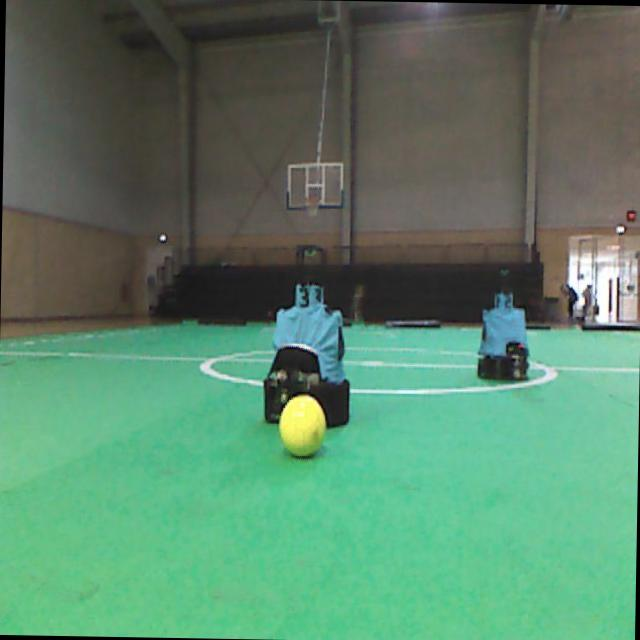ball: (278, 394, 325, 454)
